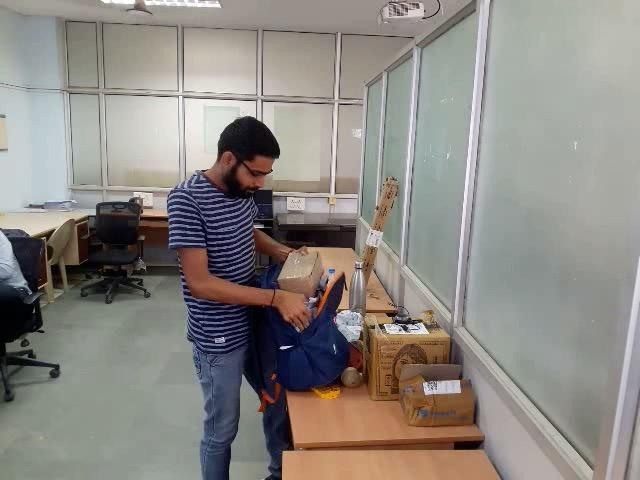shoplifting: (182, 254, 418, 350)
